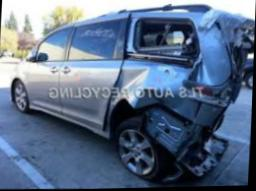Bumper: (147, 100, 237, 178)
Dickey: (208, 12, 256, 82)
Fender: (115, 64, 196, 125), (122, 14, 199, 65)
Light: (183, 77, 232, 107)
